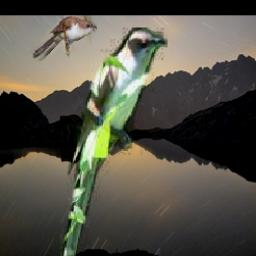Cuckoo: (61, 29, 169, 256), (30, 15, 97, 61)
